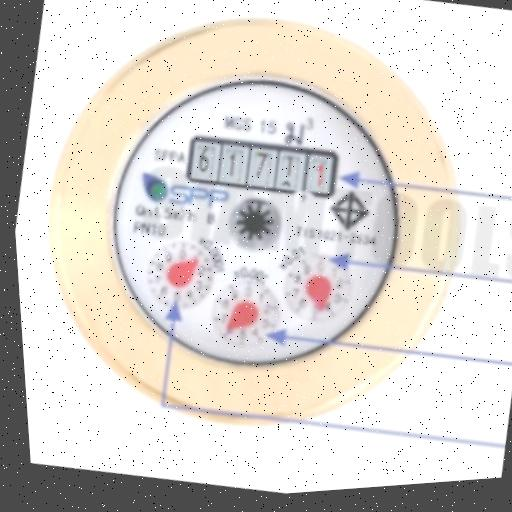1: (221, 148, 244, 185), (278, 156, 302, 191), (309, 159, 331, 193)
6: (192, 145, 218, 182)
7: (249, 151, 274, 187)
border_water_meter_number: (181, 123, 344, 211)
